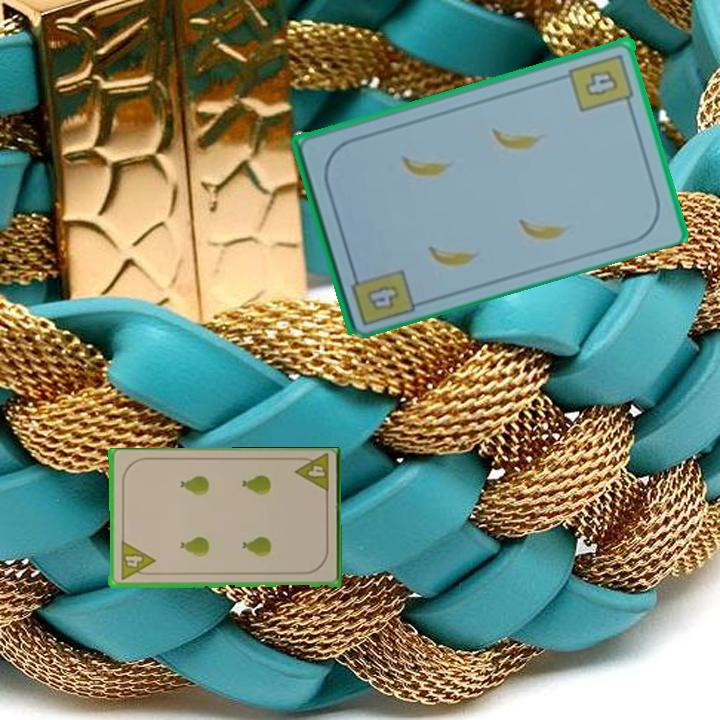4b: (566, 49, 637, 114), (347, 264, 418, 328)
4p: (291, 452, 332, 497), (117, 539, 156, 583)
